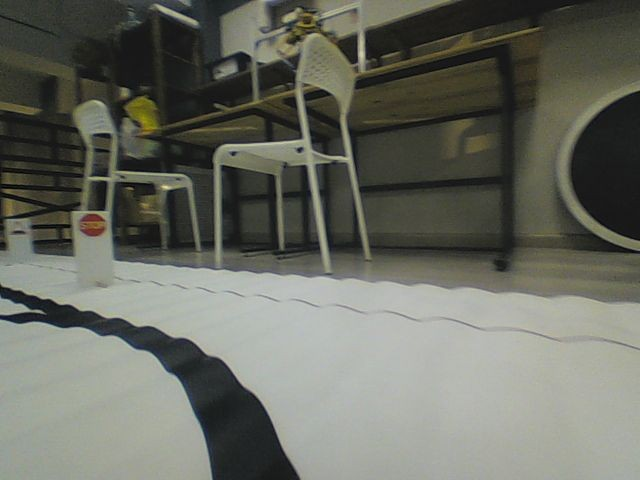Nerov: (9, 220, 27, 236)
Stop: (77, 212, 106, 238)
